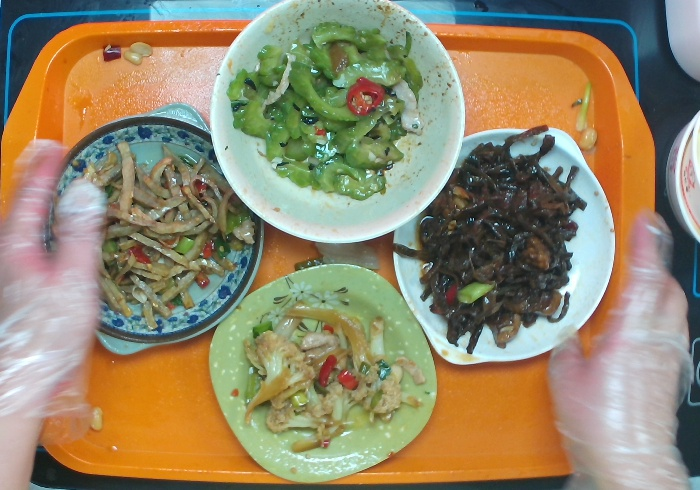NLDX-Bai_Se_Shuang_Er_Die: (390, 125, 616, 381)
NLDX-Bai_Se_Yuan_Wan: (211, 1, 465, 238)
NLDX-Lv_Hua_Fang_Die: (209, 257, 442, 490)
NLDX-Qing_Hua_Shuang_Er_Die: (53, 100, 281, 364)
